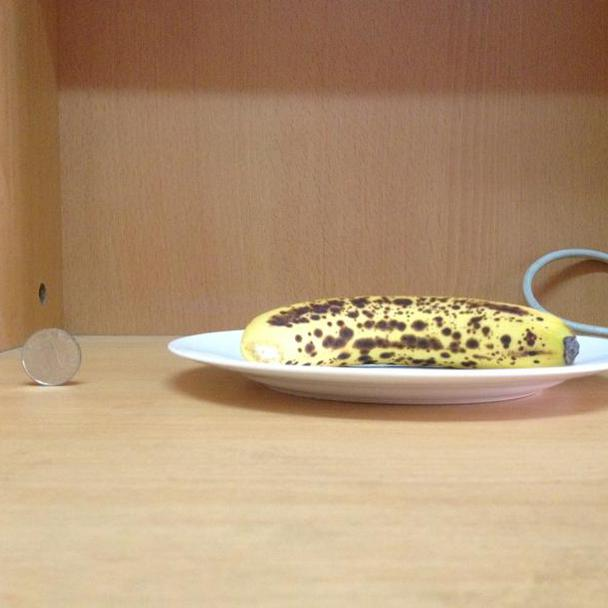banana: (242, 294, 586, 369)
